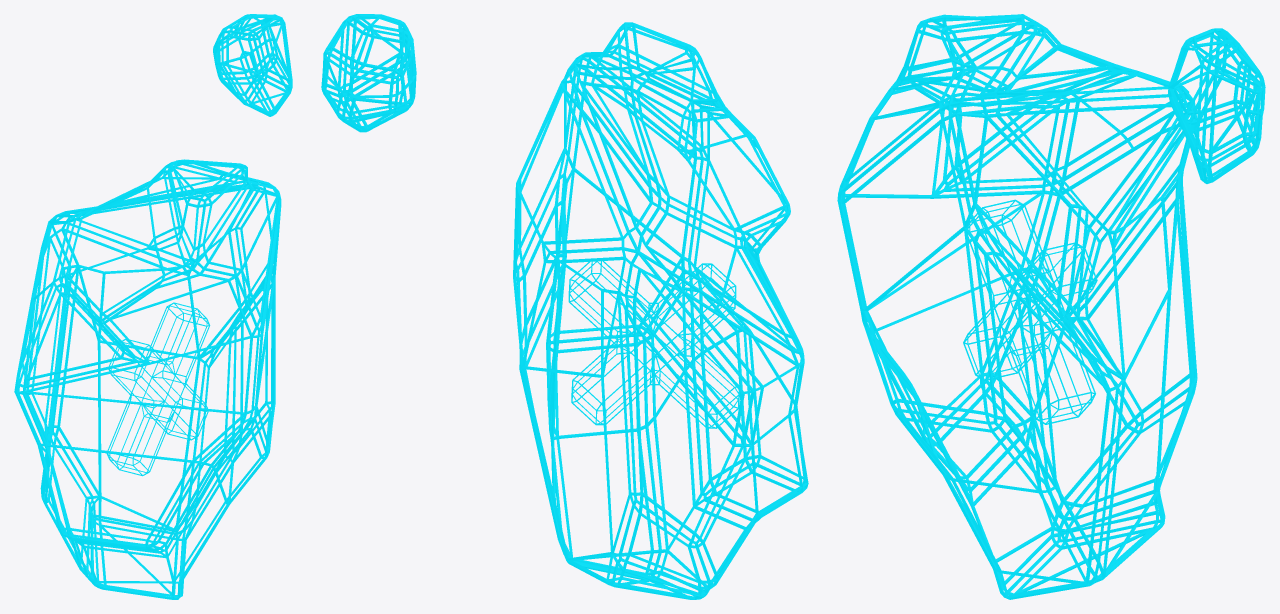
Rendered from ARfinal2.glb.
3 renders of one model, left to right at view 1: azimuth 30°, elevation 25°; view 2: azimuth 150°, elevation 25°; view 3: azimuth 270°, elevation 25°, orthographic. The views are drawn at different scales.
Parts seen in each view (by area): view 1: Plane, kleiner stein, Plane.001; view 2: Plane, kleiner stein, Plane.001; view 3: Plane, kleiner stein, Plane.001.
Part boxes in pixels (x1,y1,x2,y2): Plane: (14, 159, 281, 599); kleiner stein: (213, 14, 292, 116); Plane.001: (106, 302, 210, 476); Plane: (513, 22, 808, 599); kleiner stein: (321, 14, 416, 132); Plane.001: (568, 261, 739, 428); Plane: (837, 14, 1197, 599); kleiner stein: (1168, 28, 1265, 183); Plane.001: (963, 199, 1097, 424).
Size of the model in its own units: 1.11 by 1.56 by 0.9154.
